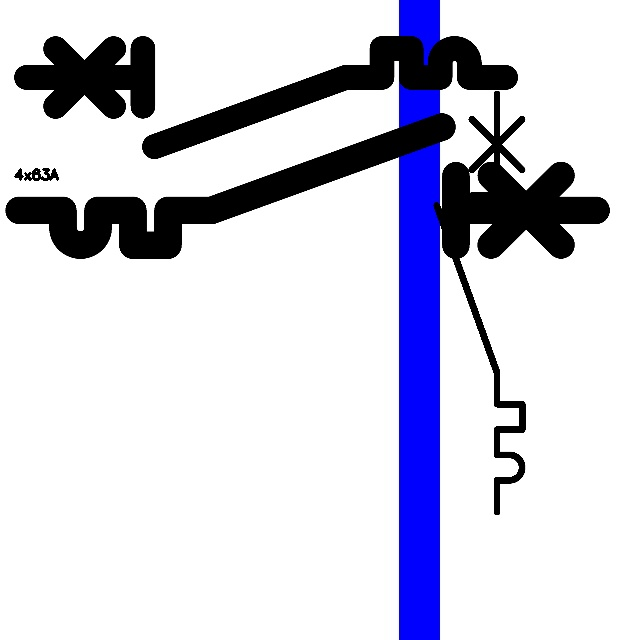interruptor_termomagnetico: (4, 112, 610, 260), (14, 36, 518, 159), (426, 83, 533, 523)
